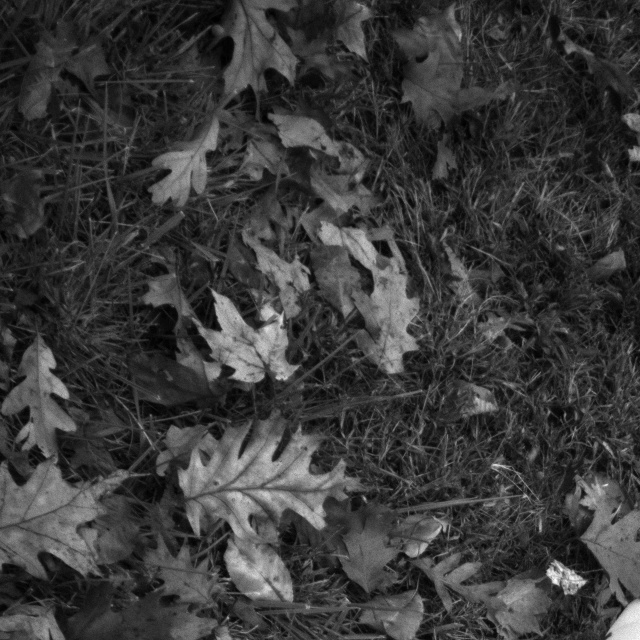can: (576, 561, 640, 639)
